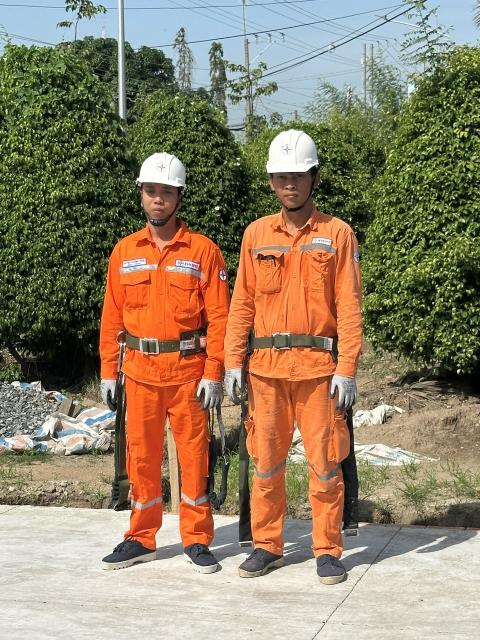gloves: (323, 369, 361, 414), (95, 371, 122, 412), (198, 372, 220, 409), (225, 368, 243, 401)
harness: (238, 320, 344, 368), (109, 322, 218, 366)
helmet: (130, 145, 199, 197), (260, 130, 327, 177)
shoes: (95, 527, 161, 574), (235, 534, 281, 578), (313, 544, 349, 587), (179, 540, 219, 572)
